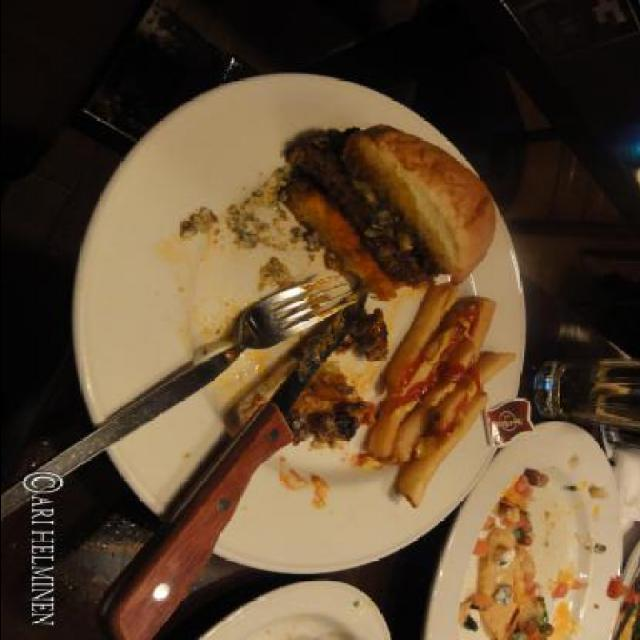Hamburger: (278, 122, 492, 304)
